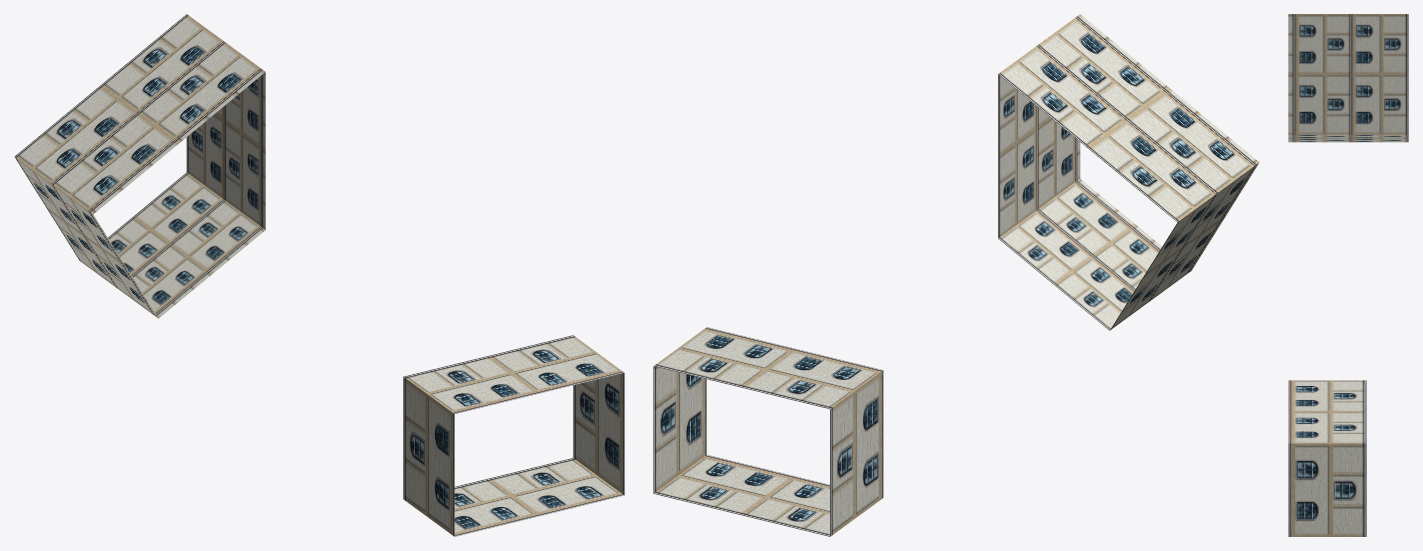
Rendered from polygon564.obj.
The picture shows the model from 3 angles, left to right: view 1: azimuth 30°, elevation 25°; view 2: azimuth 150°, elevation 25°; view 3: azimuth 270°, elevation 25°; orthographic projection. The views are drawn at different scales.
Visible parts, largest first — view 1: polygon564; view 2: polygon564; view 3: polygon564.
Part boxes in pixels (x1,y1,x2,y2): polygon564: (14,14,624,536); polygon564: (653,14,1259,536); polygon564: (1288,14,1408,536).
Size of the model in its own units: 544 by 500 by 140.
1 material, 1 textured.
